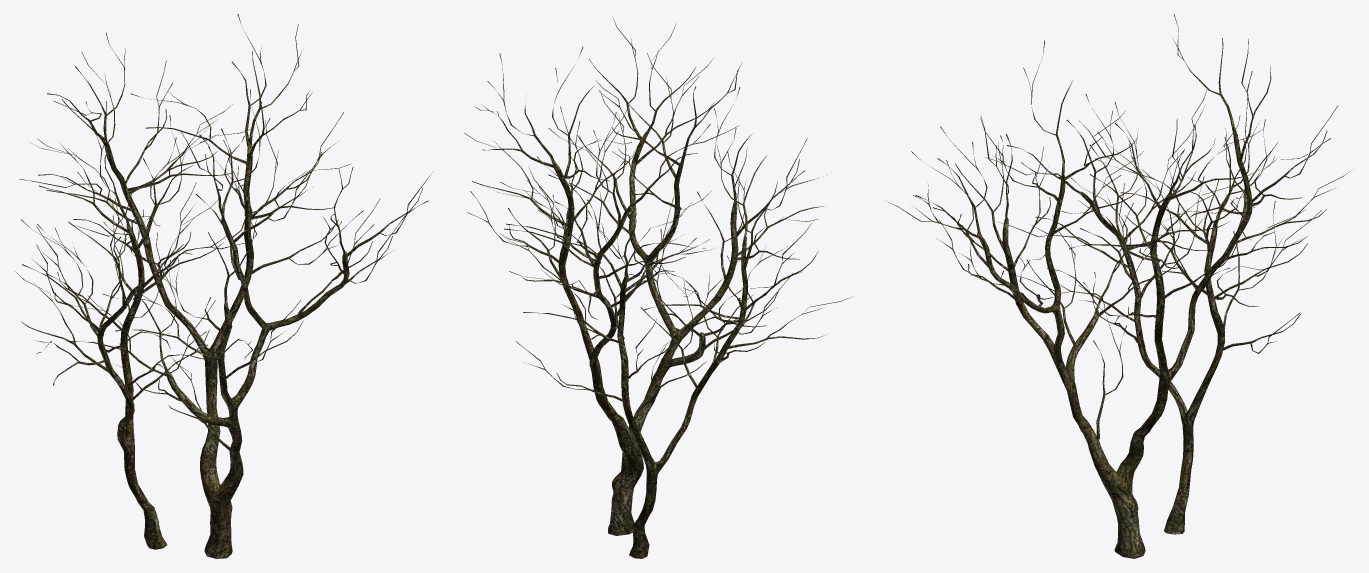
The model's file is Tree 2.FBX.
3 renders of one model, left to right at view 1: azimuth 30°, elevation 25°; view 2: azimuth 150°, elevation 25°; view 3: azimuth 270°, elevation 25°, orthographic. The views are drawn at different scales.
Parts seen in each view (by area): view 1: tree 2; view 2: tree 2; view 3: tree 2.
Part boxes in pixels (bbox=[...]): tree 2: bbox=[15, 14, 433, 558]; tree 2: bbox=[464, 19, 852, 558]; tree 2: bbox=[888, 14, 1351, 558].
Bounding box in the file's own units: 295 × 388 × 340.
1 material, 1 textured.
